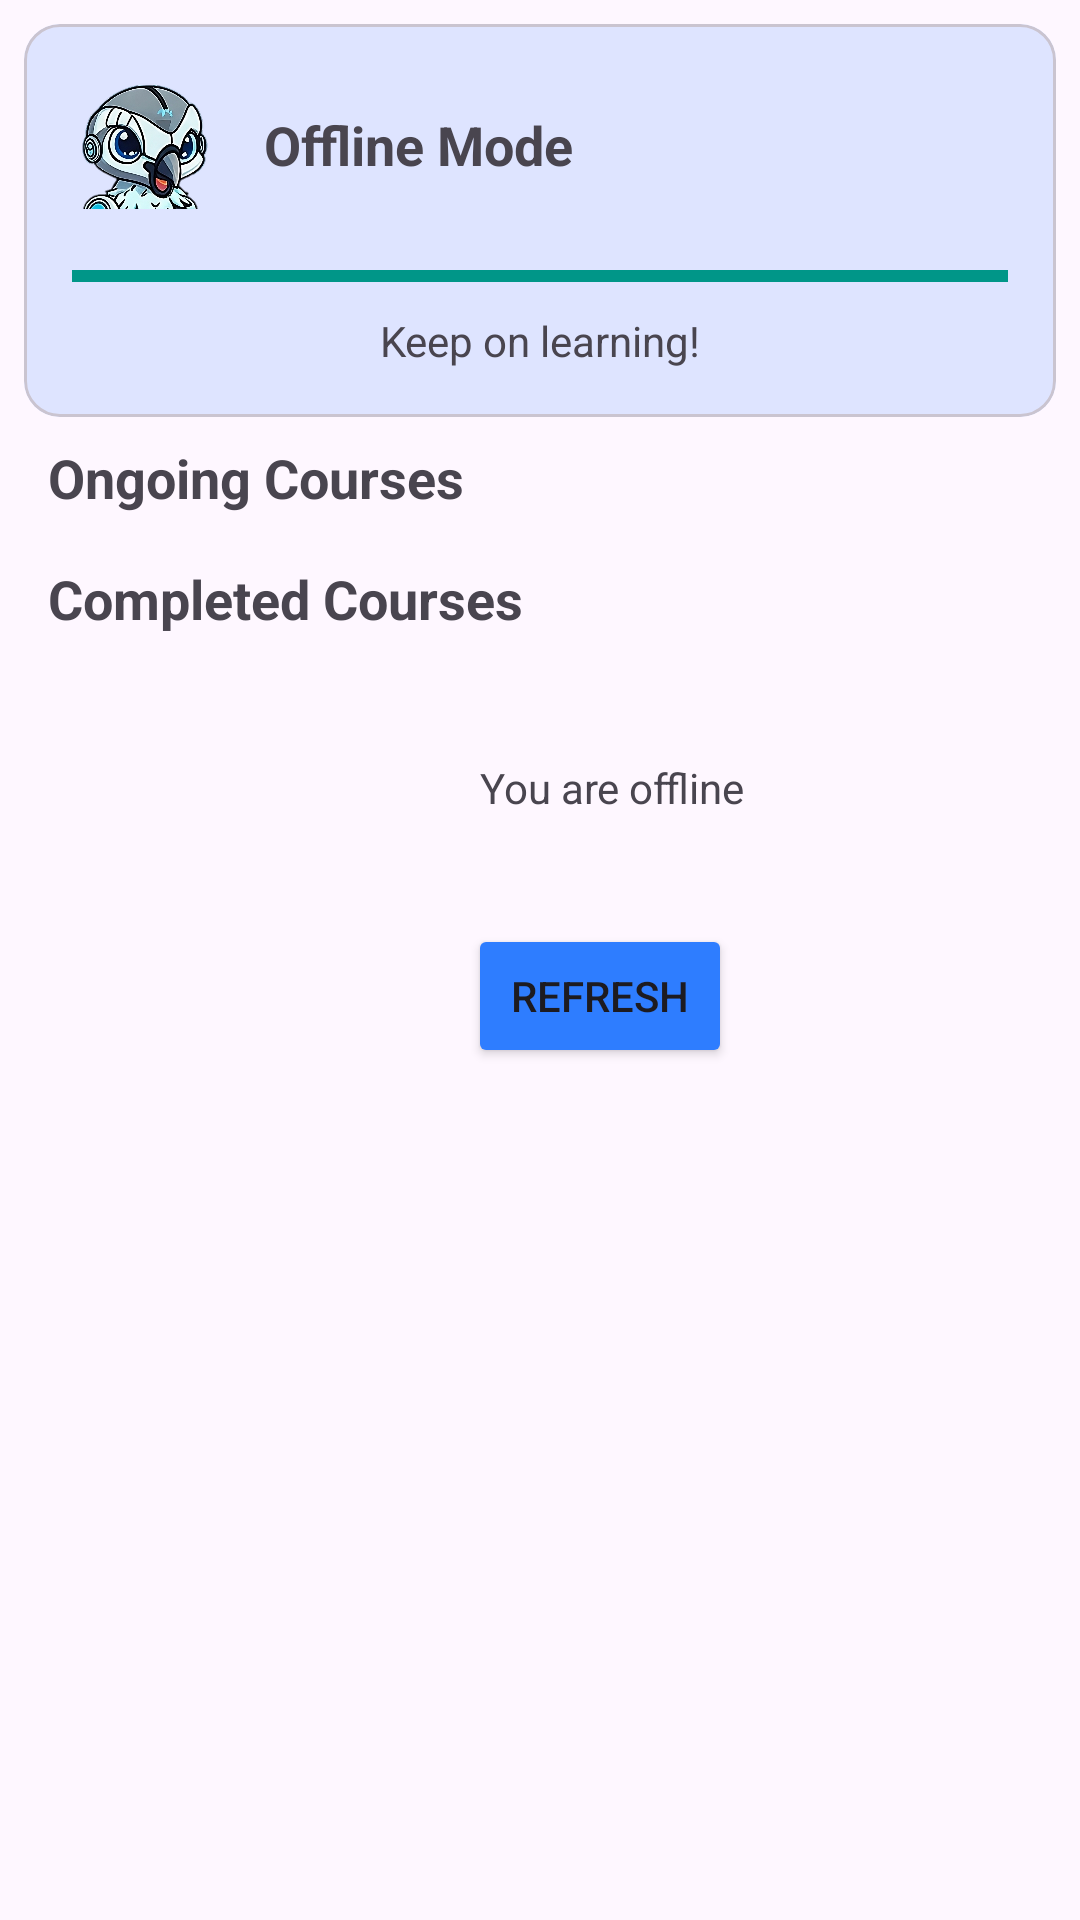

Screen size 1080×1920. Icon name, then its box in pixels as (x1, y1, x2, y2):
profile eagle: (82, 85, 208, 209)
